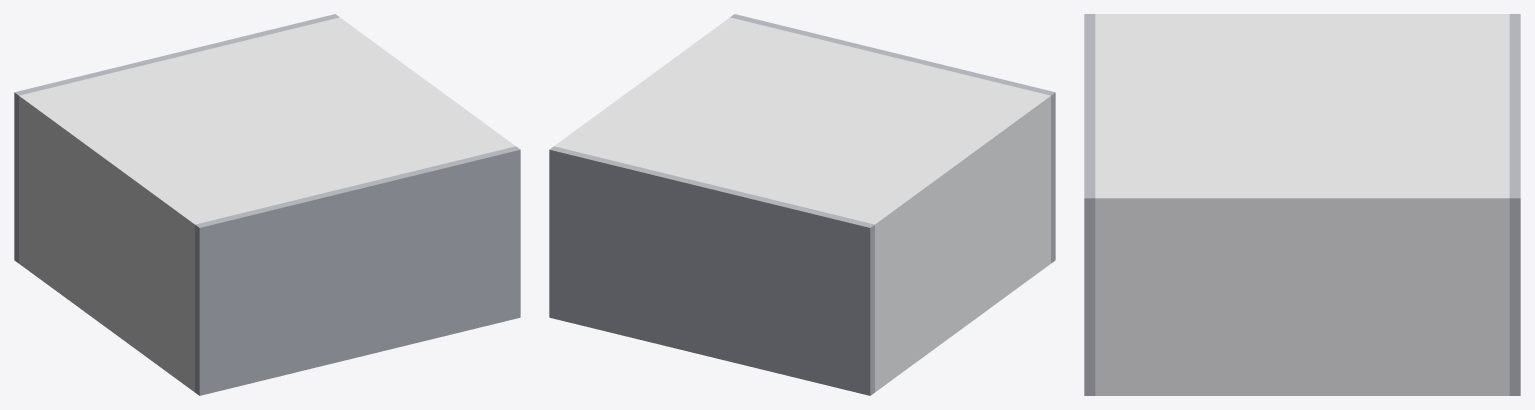
The model's file is NF_Floor_00_Roadblock.fbx.
The picture shows the model from 3 angles, left to right: view 1: azimuth 30°, elevation 25°; view 2: azimuth 150°, elevation 25°; view 3: azimuth 270°, elevation 25°; orthographic projection. The views are drawn at different scales.
Parts seen in each view (by area): view 1: NF_Floor_00_Roadblock; view 2: NF_Floor_00_Roadblock; view 3: NF_Floor_00_Roadblock.
Boxes of the visible parts, bbox=[...] form: NF_Floor_00_Roadblock: bbox=[14, 14, 520, 395]; NF_Floor_00_Roadblock: bbox=[549, 14, 1055, 395]; NF_Floor_00_Roadblock: bbox=[1084, 14, 1520, 395].
Size of the model in its own units: 2 by 1 by 2.
Materials: 1 (1 with a texture image).
